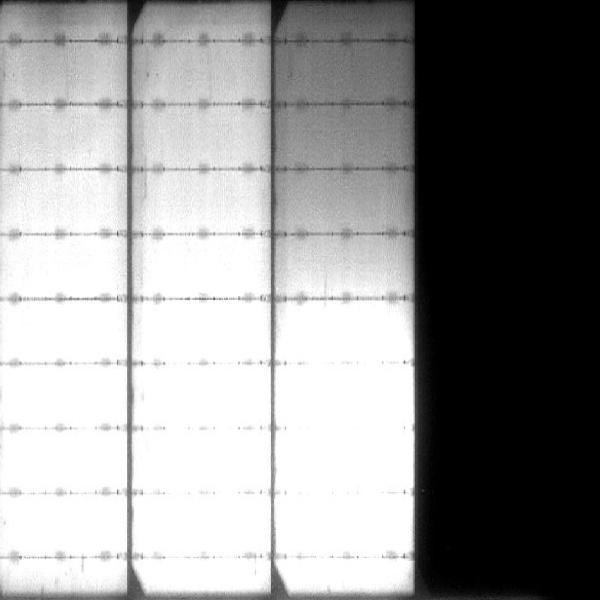hot_spot: (275, 492, 408, 553), (138, 499, 269, 553), (135, 435, 264, 487), (277, 438, 406, 489), (282, 371, 409, 422), (138, 370, 266, 420), (6, 370, 125, 423), (7, 434, 125, 484), (140, 306, 262, 352), (6, 309, 123, 354), (7, 505, 121, 551), (156, 244, 261, 291), (285, 311, 401, 353), (150, 560, 269, 595), (14, 257, 119, 293)
no_electricity: (412, 5, 598, 597)
